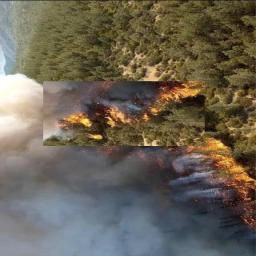Heavy smoke: (1, 67, 157, 256)
Medium fire: (45, 82, 256, 255)
